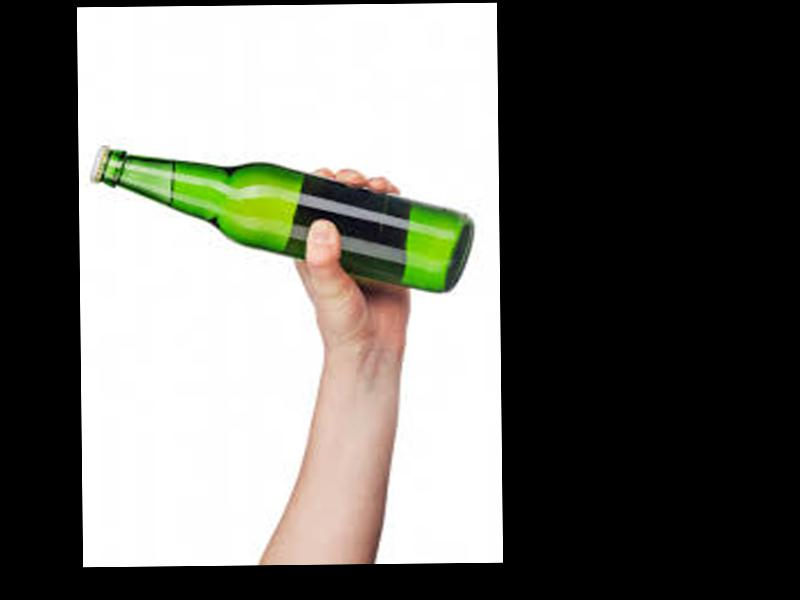Beer: (90, 141, 475, 296)
